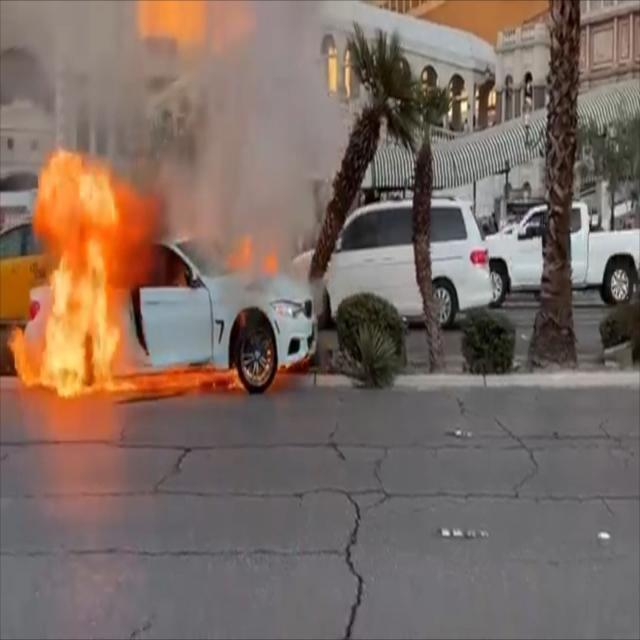fire: (30, 147, 232, 396)
